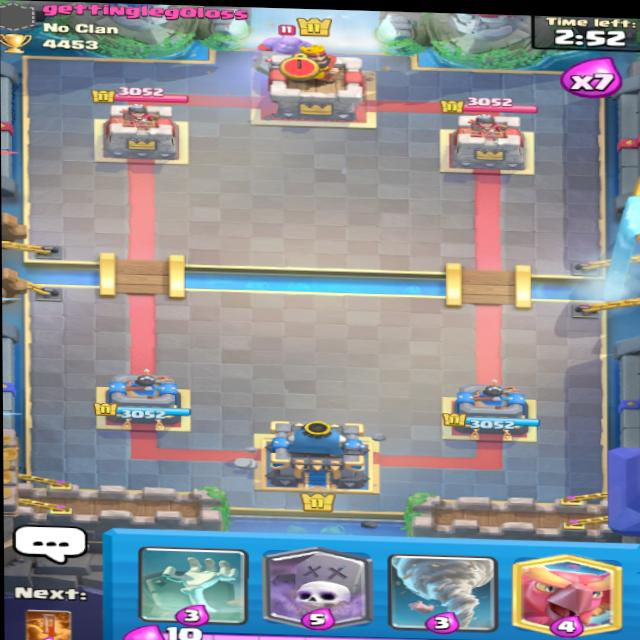bowler: (246, 22, 318, 69)
